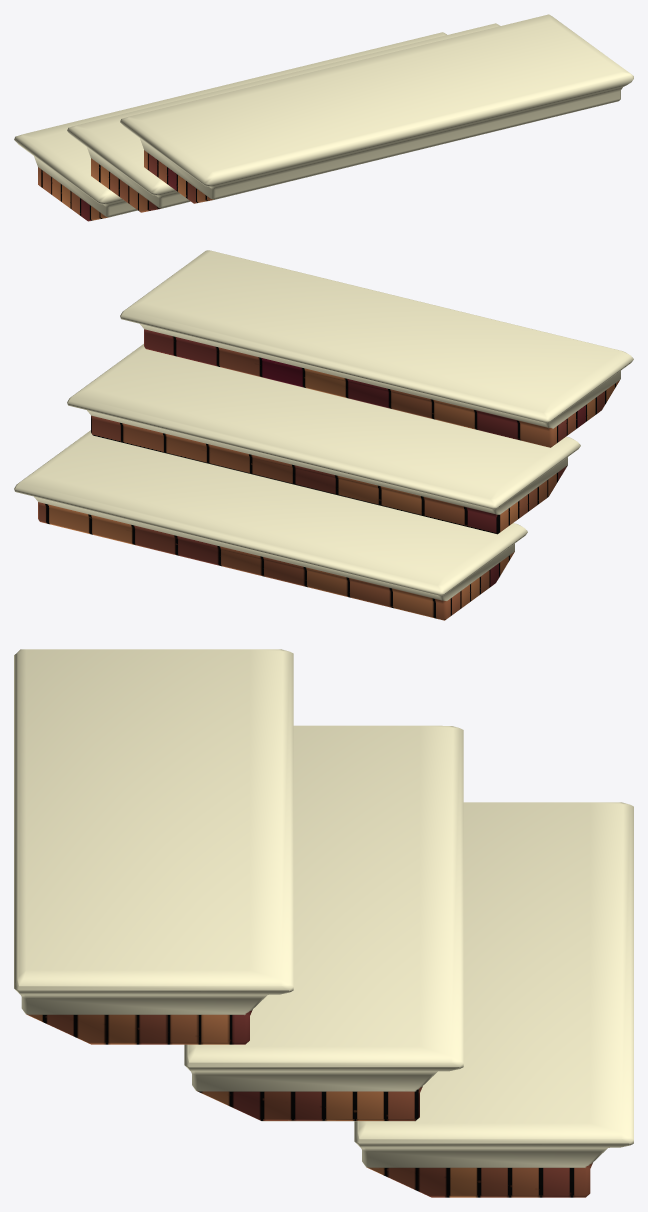
The model's file is Degraus.fbx.
The picture shows the model from 3 angles, top to bottom: view 1: azimuth 30°, elevation 25°; view 2: azimuth 150°, elevation 25°; view 3: azimuth 270°, elevation 25°; orthographic projection. The views are drawn at different scales.
Parts seen in each view (by area): view 1: Degraus; view 2: Degraus; view 3: Degraus.
Part boxes in pixels (x1,y1,x2,y2): Degraus: (14,14,633,221); Degraus: (14,250,633,620); Degraus: (14,649,633,1197).
Size of the model in its own units: 699 by 222 by 543.
